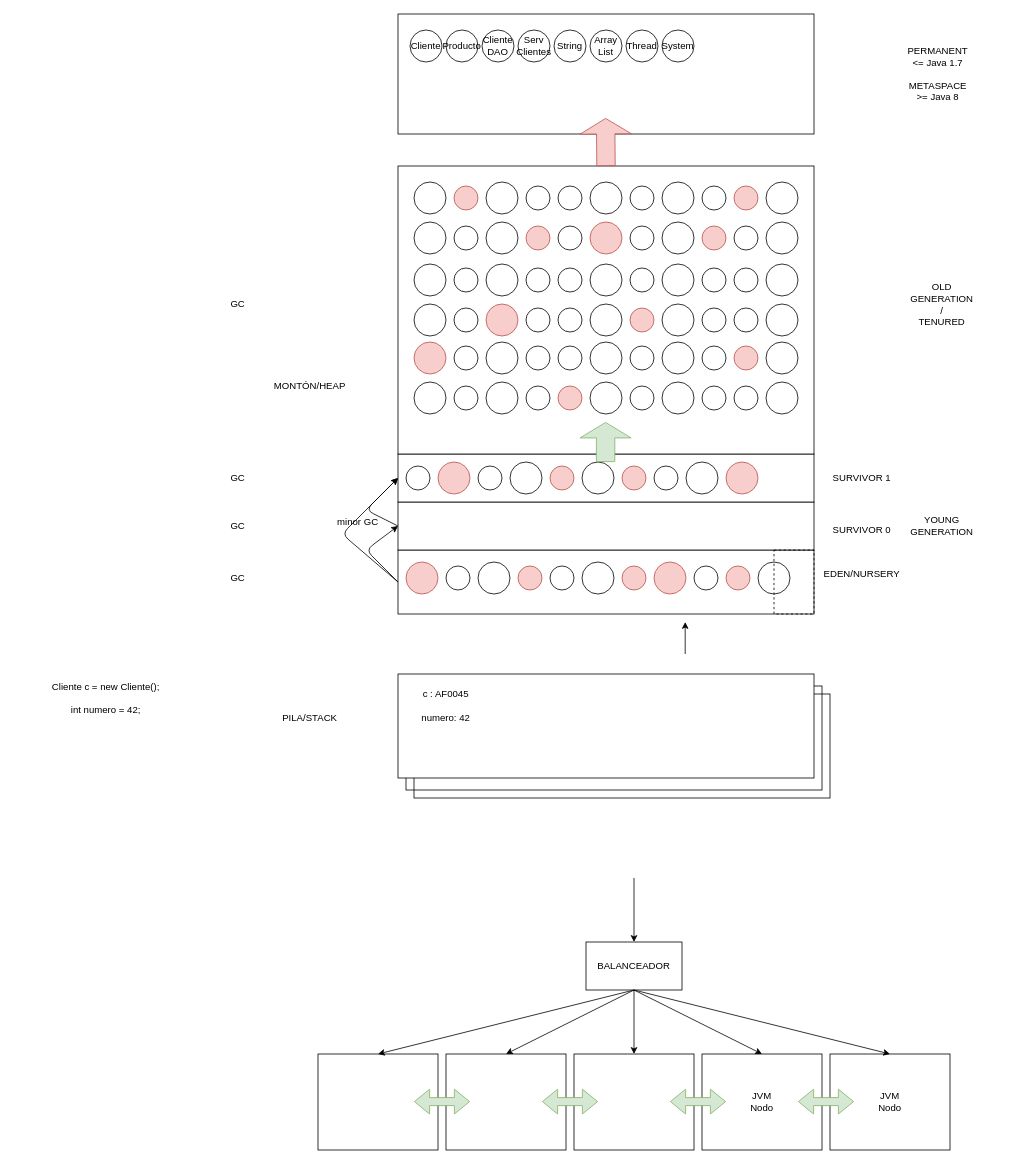
This 1027x1164 diagram has some shape labels left out. Each missing label, with the centre of its shape:
"JVM Nodo 1" belongs at [377,1101].
"JVM Nodo 2" belongs at [505,1101].
"JVM Nodo 3" belongs at [633,1101].
